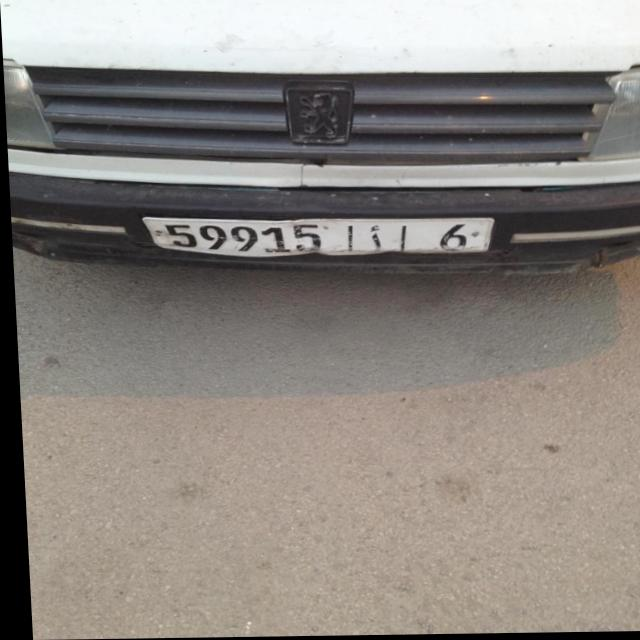License-Plate: (141, 217, 491, 258)
